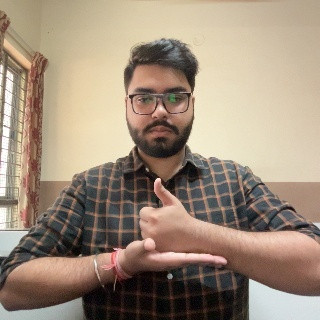Face: (123, 45, 198, 152)
Help: (112, 176, 229, 284)
